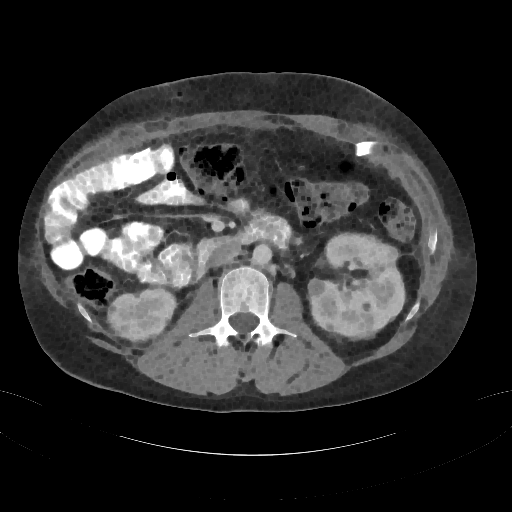Lesion: (306, 275, 326, 298)
